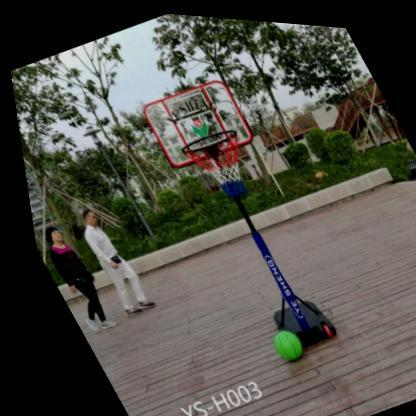basketball: (258, 320, 298, 360)
rim: (172, 117, 265, 206)
